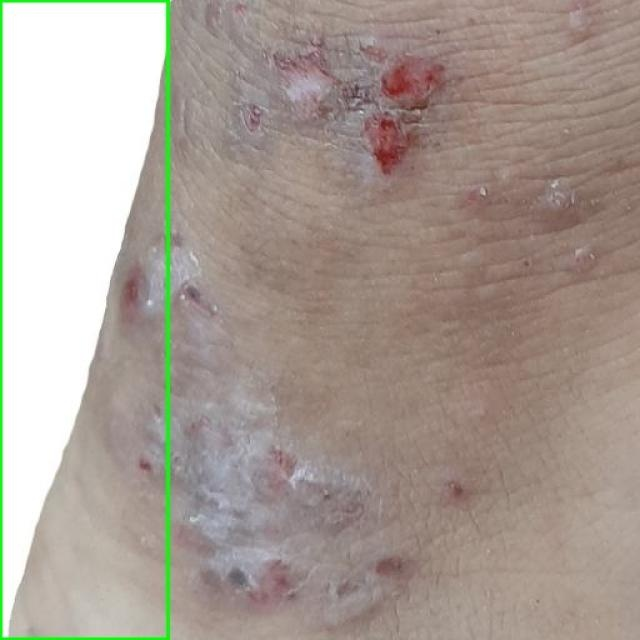Eczema: (0, 0, 168, 639)
